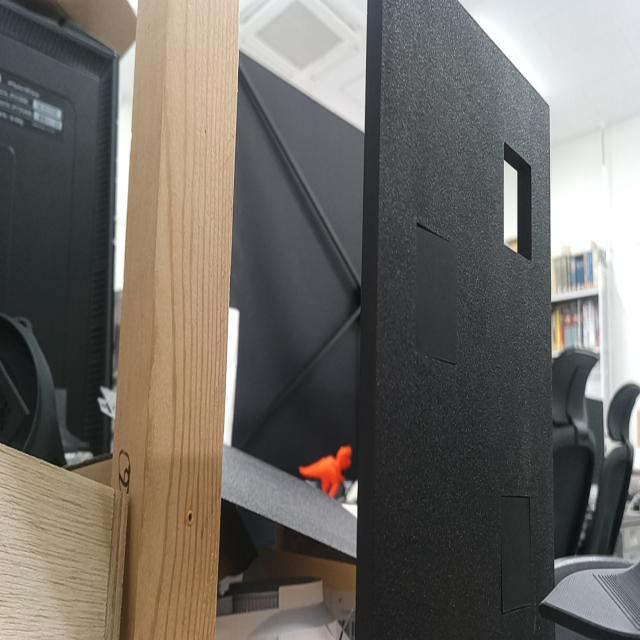Obstacle: (503, 139, 532, 260)
Wall: (376, 0, 556, 639)
